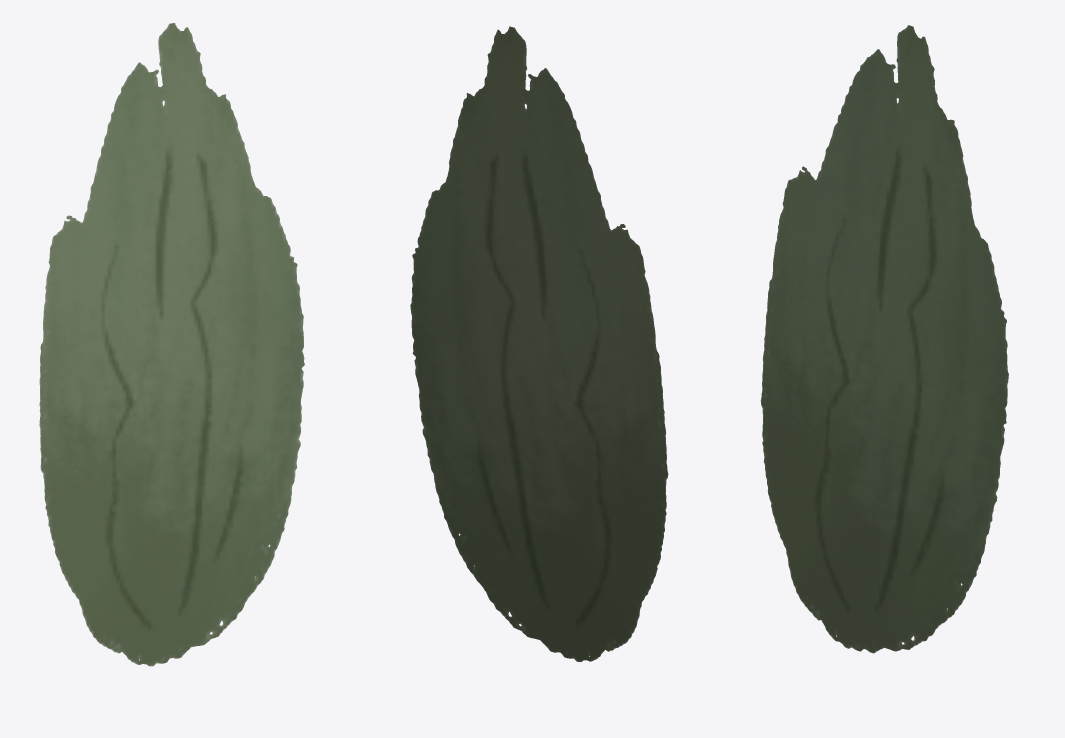
Rendered from tree1_001.fbx.
The picture shows the model from 3 angles, left to right: view 1: azimuth 30°, elevation 25°; view 2: azimuth 150°, elevation 25°; view 3: azimuth 330°, elevation 25°; orthographic projection. The views are drawn at different scales.
Visible parts, largest first — view 1: tree1.001; view 2: tree1.001; view 3: tree1.001.
Part boxes in pixels (x1=…): tree1.001: x1=39, y1=23, x2=304, y2=666; tree1.001: x1=410, y1=26, x2=668, y2=662; tree1.001: x1=760, y1=25, x2=1008, y2=653.
Bounding box in the file's own units: 214 × 421 × 34.14.
